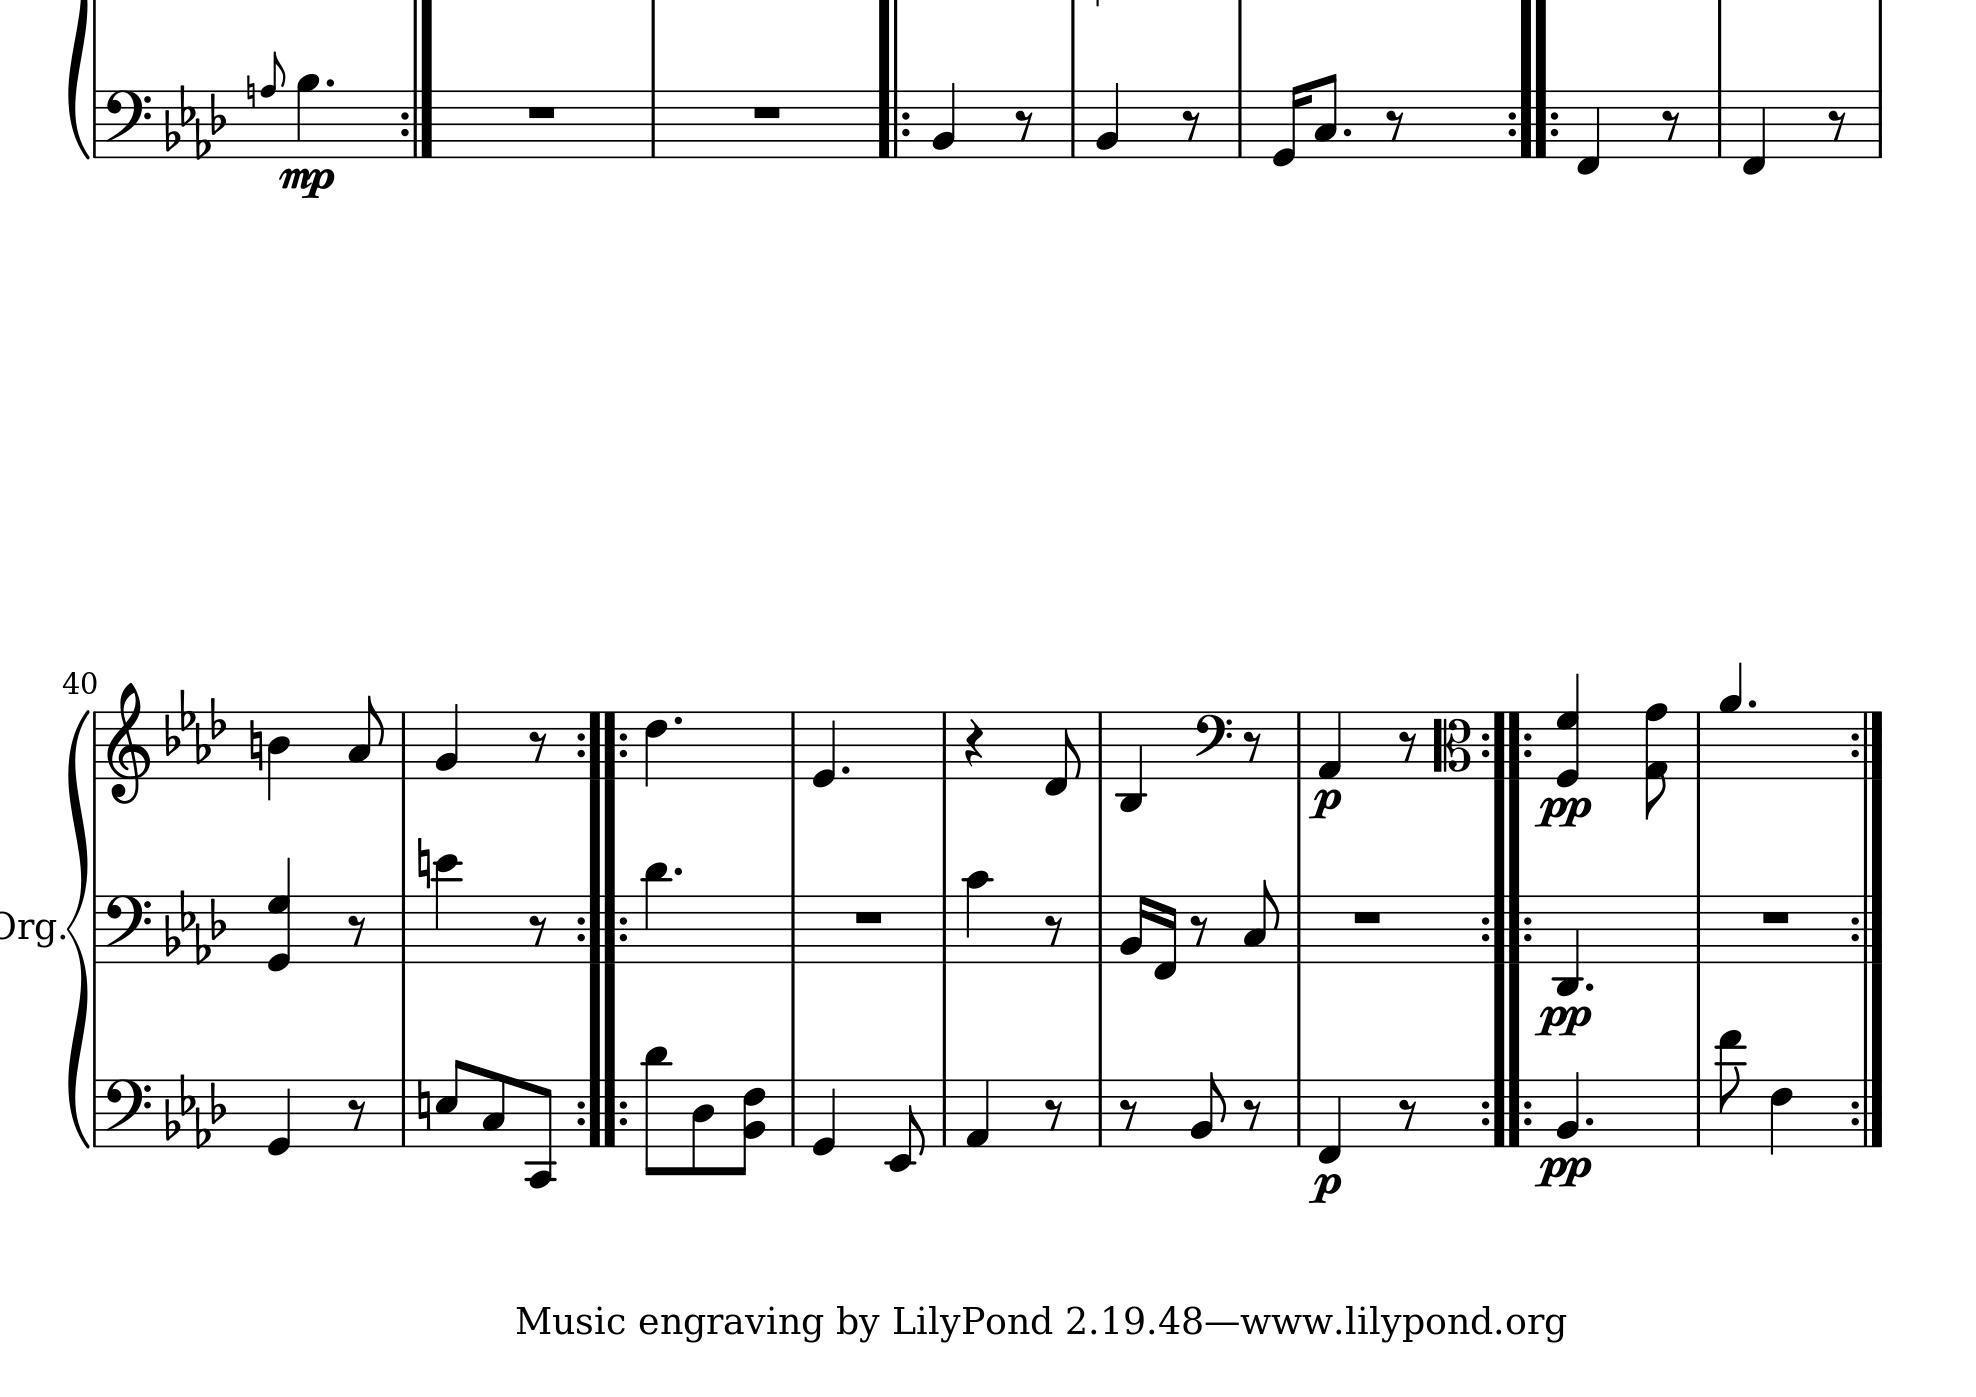0: (80, 668, 97, 695)
16_-1: (1154, 894, 1179, 983)
16_0: (1268, 82, 1309, 168)
16_2: (1117, 894, 1151, 965)
4: (60, 668, 79, 697)
4_-1: (1315, 1078, 1344, 1166), (1575, 88, 1603, 175), (1742, 88, 1767, 175)
4_-3: (1554, 891, 1584, 998), (1117, 708, 1144, 813)
4_0: (810, 1076, 838, 1158), (812, 708, 838, 789), (268, 1076, 292, 1157)
4_0_7: (265, 856, 293, 972), (1557, 671, 1581, 788)
4_1: (965, 1078, 990, 1149), (1317, 711, 1343, 780)
4_10: (962, 869, 992, 965)
4_11: (641, 860, 671, 965)
4_12: (431, 853, 463, 965)
4_2: (931, 80, 959, 159), (434, 702, 461, 780), (1095, 82, 1120, 160), (1556, 1069, 1581, 1148)
4_4: (266, 709, 290, 801)
4_6: (1767, 1076, 1795, 1157), (643, 709, 668, 788)
4_9: (1720, 662, 1745, 779), (295, 73, 321, 159)
8_-1: (1043, 709, 1082, 797)
8_-2: (884, 1076, 925, 1173)
8_-4: (526, 1076, 556, 1188)
8_11: (643, 1043, 673, 1179)
8_13: (1714, 1028, 1748, 1148)
8_1_8: (1643, 702, 1671, 819)
8_2: (1188, 1070, 1228, 1148)
8_2_6: (732, 1078, 770, 1176)
8_3: (1243, 877, 1281, 965), (348, 692, 384, 780), (1312, 71, 1338, 159), (481, 1069, 506, 1149)
8_4: (689, 1076, 715, 1178)
8_5: (432, 1057, 466, 1148)
A_F: (163, 685, 227, 764), (163, 887, 225, 965), (165, 83, 225, 159), (163, 1072, 224, 1148)
Appoggiature: (260, 48, 287, 160)
Cclef: (1432, 709, 1473, 779)
Fclef: (103, 1076, 153, 1148), (104, 88, 153, 160), (104, 892, 153, 965), (1193, 709, 1232, 780)
Gclef: (104, 680, 150, 804)
LeftRepeatSign: (874, 89, 912, 159)
Natural: (414, 1079, 432, 1131), (248, 717, 265, 773), (417, 838, 431, 891), (243, 74, 257, 110)
Rests1: (1757, 907, 1793, 927), (748, 101, 785, 119), (1349, 907, 1385, 925), (525, 101, 559, 119), (851, 909, 886, 927)
Rests4: (963, 718, 986, 770)
Rests8: (1013, 107, 1036, 142), (1179, 107, 1202, 142), (1660, 107, 1683, 142), (1825, 107, 1847, 142), (1383, 107, 1405, 142), (1397, 729, 1418, 764), (528, 912, 549, 946), (1043, 912, 1064, 946), (1188, 913, 1209, 948), (346, 1096, 367, 1131), (1043, 1096, 1064, 1131), (1117, 1096, 1138, 1131), (1241, 1096, 1262, 1131), (346, 913, 367, 946), (1395, 1098, 1417, 1131), (528, 729, 547, 764), (1243, 729, 1262, 764)
RightAndLeftRepeatSign: (1479, 895, 1536, 962), (1504, 89, 1560, 157), (575, 894, 630, 962), (575, 711, 630, 777), (1479, 1078, 1535, 1145), (1480, 711, 1535, 777), (575, 1078, 629, 1145)
RightRepeatSign: (1847, 709, 1888, 779), (398, 91, 435, 157), (1847, 895, 1885, 962), (1847, 1079, 1885, 1146)
Single_barline: (1092, 711, 1110, 780), (395, 711, 413, 779), (1689, 894, 1707, 962), (644, 91, 662, 157), (1231, 91, 1249, 157), (395, 895, 413, 962), (783, 895, 801, 962), (936, 895, 954, 962), (1092, 895, 1110, 962), (395, 1078, 413, 1145), (1064, 91, 1082, 156), (1092, 1079, 1110, 1145), (785, 711, 801, 779), (936, 711, 952, 779), (1290, 711, 1306, 779), (1690, 711, 1707, 779), (1711, 91, 1728, 157), (1290, 895, 1306, 962), (785, 1079, 801, 1146), (936, 1079, 952, 1146), (1872, 91, 1888, 156), (1290, 1079, 1306, 1145), (1690, 1079, 1705, 1146), (89, 89, 103, 157), (88, 711, 101, 779), (89, 895, 101, 962), (89, 1078, 101, 1145)
dot: (671, 712, 686, 729), (838, 760, 853, 777), (671, 863, 685, 880), (1341, 125, 1355, 139), (324, 76, 336, 91), (1748, 695, 1760, 711), (1584, 980, 1597, 993), (1583, 1114, 1595, 1128)
mp: (277, 163, 336, 203)
p: (1306, 1172, 1344, 1208), (1308, 788, 1343, 822)
pp: (1532, 1154, 1593, 1191), (1533, 792, 1592, 832), (1532, 1002, 1592, 1039)
